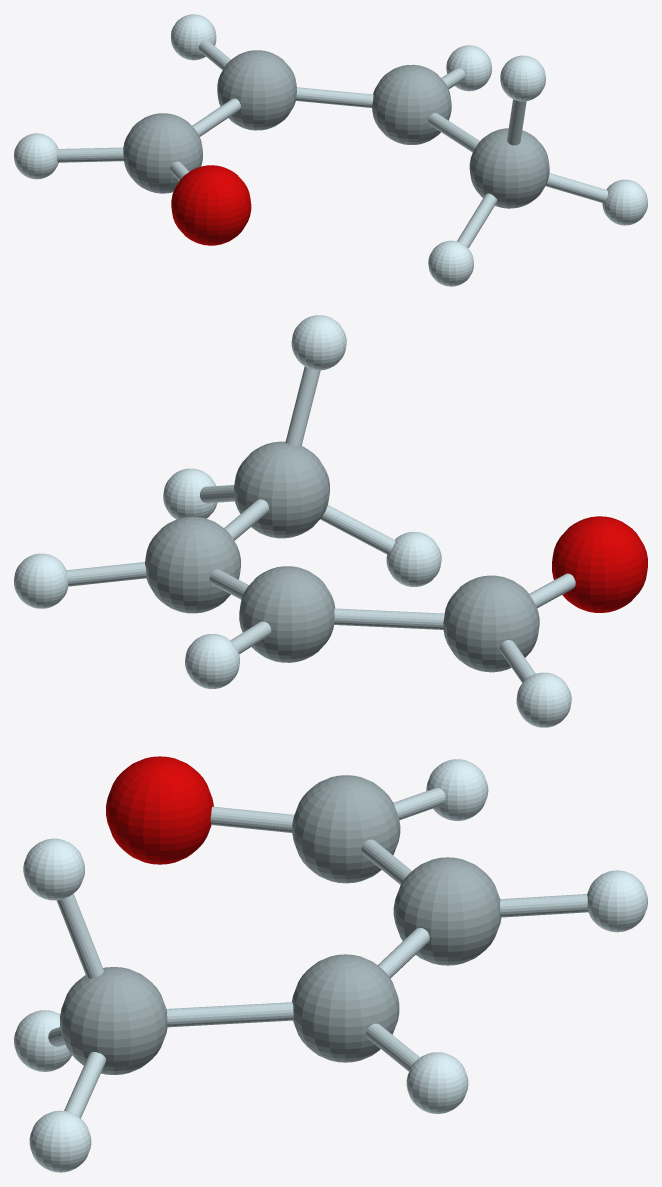
Rendered from irc_019.glb.
3 renders of one model, top to bottom at view 1: azimuth 30°, elevation 25°; view 2: azimuth 150°, elevation 25°; view 3: azimuth 270°, elevation 25°, orthographic. The views are drawn at different scales.
Visible parts, largest first — view 1: Renderer Node; view 2: Renderer Node; view 3: Renderer Node.
Part boxes in pixels (<box>): Renderer Node: <box>14,14,647,286</box>; Renderer Node: <box>14,315,647,727</box>; Renderer Node: <box>14,756,647,1172</box>.
Size of the model in its own units: 4.82 by 1.97 by 4.09.
